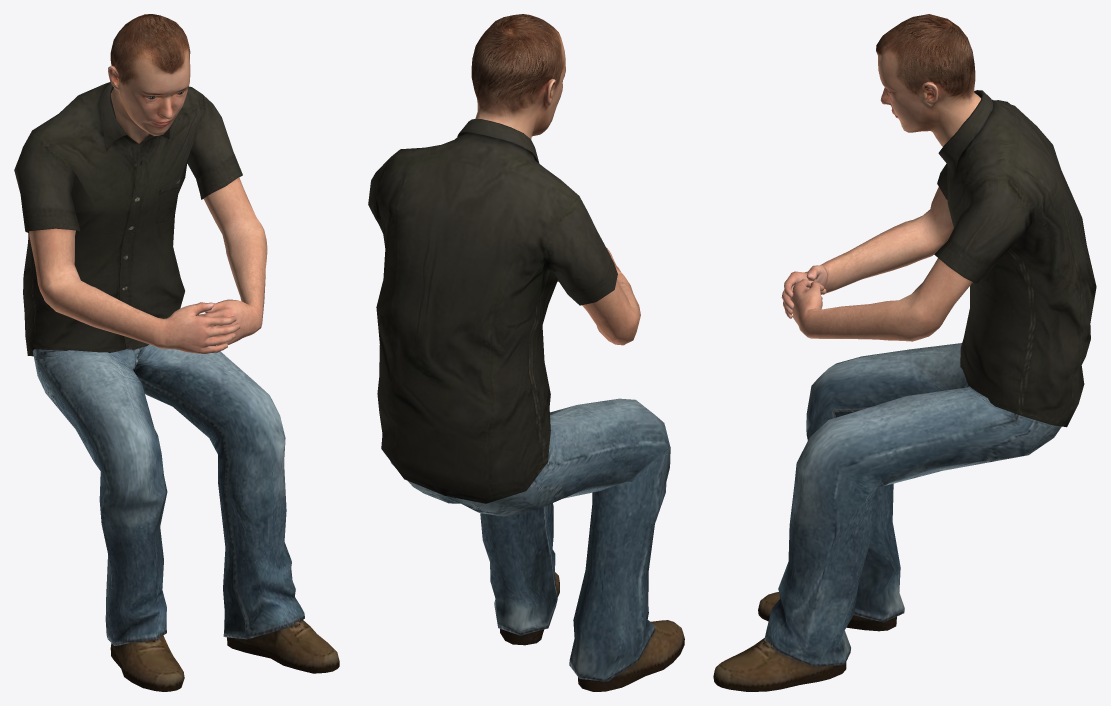
File: Male_Adult_11.glb
3 renders of one model, left to right at view 1: azimuth 30°, elevation 25°; view 2: azimuth 150°, elevation 25°; view 3: azimuth 270°, elevation 25°, orthographic. The views are drawn at different scales.
Visible parts, largest first — view 1: Male_Adult_11; view 2: Male_Adult_11; view 3: Male_Adult_11.
Part boxes in pixels (bbox=[...]): Male_Adult_11: bbox=[14, 14, 339, 691]; Male_Adult_11: bbox=[368, 14, 684, 691]; Male_Adult_11: bbox=[713, 14, 1096, 691].
Bounding box in the file's own units: 0.5327 × 1.43 × 0.7878.
Materials: 2 (2 with a texture image).
